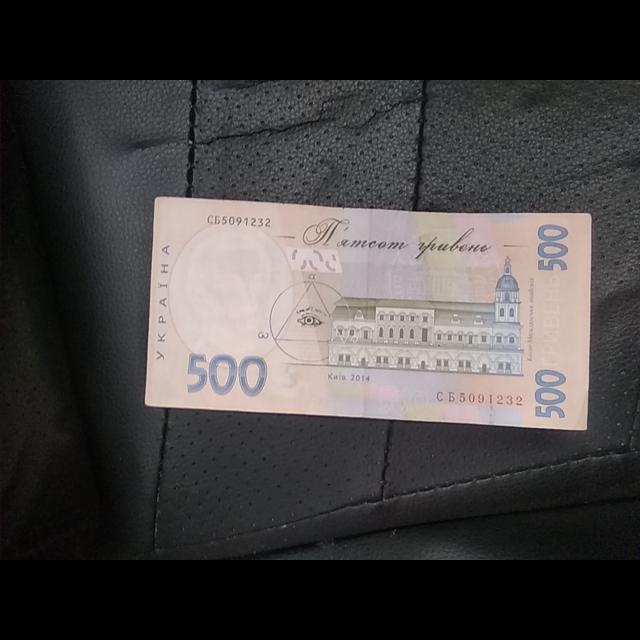500uah: (146, 196, 590, 430)
